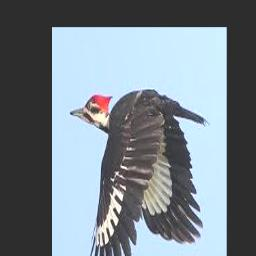Woodpecker: (70, 88, 211, 256)
